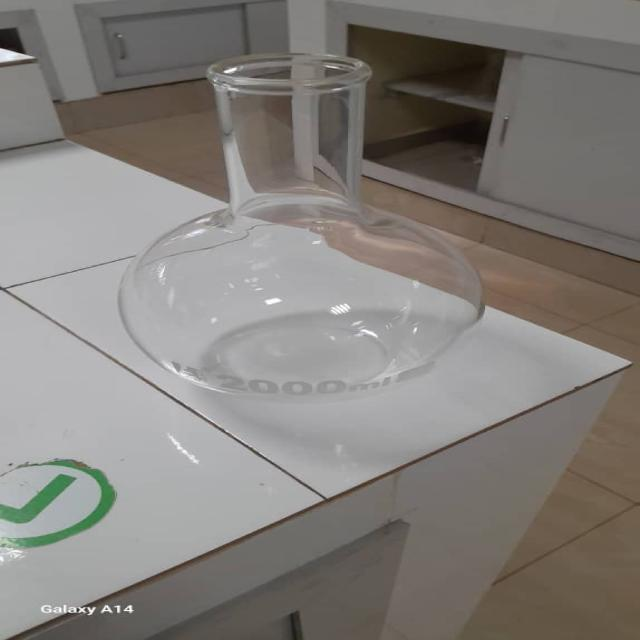Round Bottom Flask: (117, 51, 504, 412)
